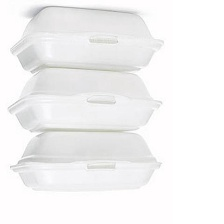foam_box: (3, 63, 168, 137), (3, 126, 166, 200), (6, 3, 168, 76)
